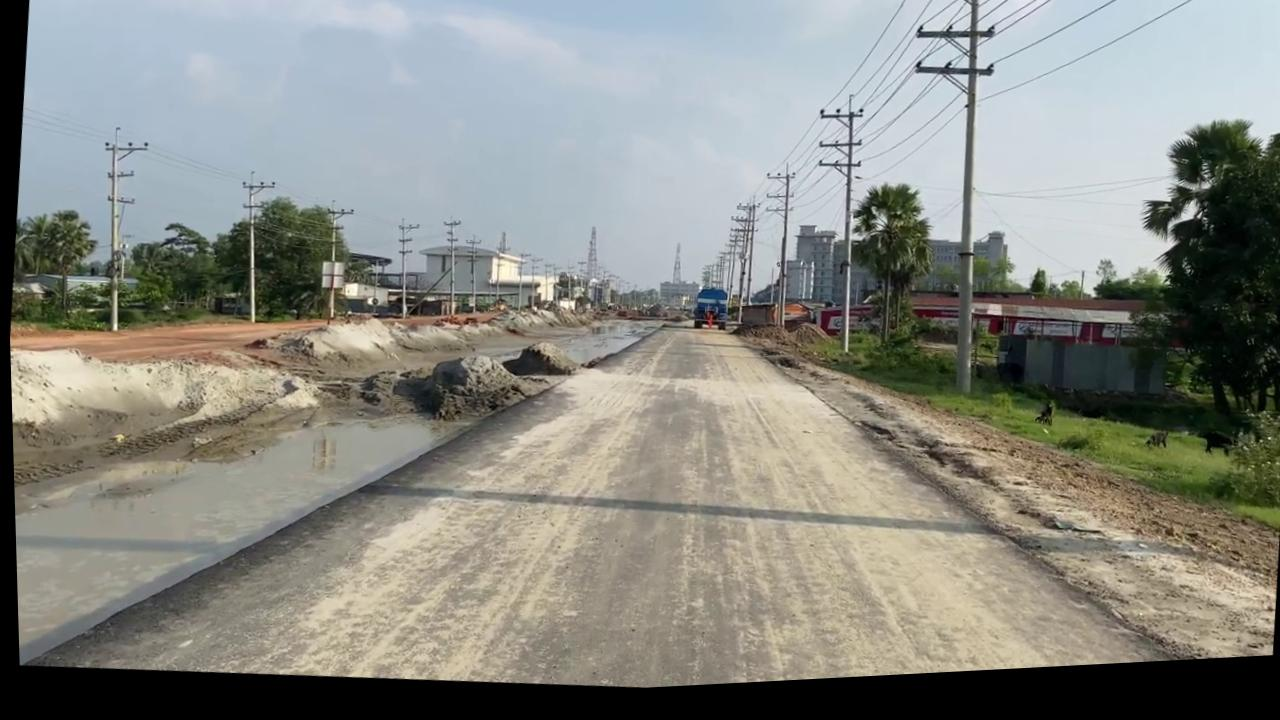Animal: (1194, 439, 1232, 471), (1140, 440, 1164, 461)
Dog: (1030, 410, 1052, 438)
Pole: (880, 0, 1008, 408), (796, 99, 871, 364), (227, 172, 277, 327)
Sidewalk: (7, 265, 671, 716)
Traffic-sign: (1117, 120, 1280, 440), (835, 188, 940, 363), (30, 205, 97, 318)
Tree: (688, 295, 728, 341)
